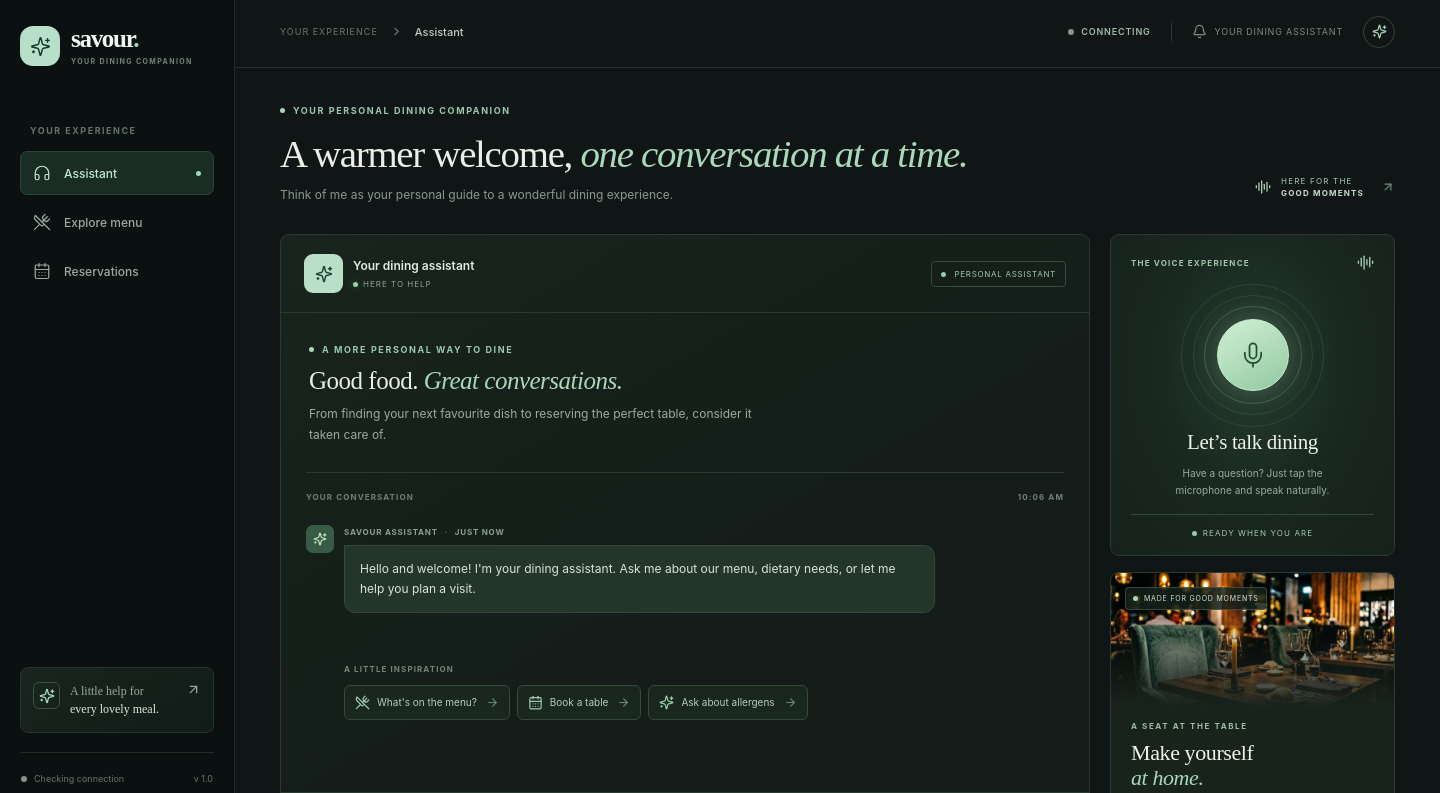
Test case: restaurant experience › shows reservation confirmation only after the API succeeds
The image size is (1440, 793).
Click the button "Reservations" at (117, 271), box x1=20 y1=249 x2=214 y2=293
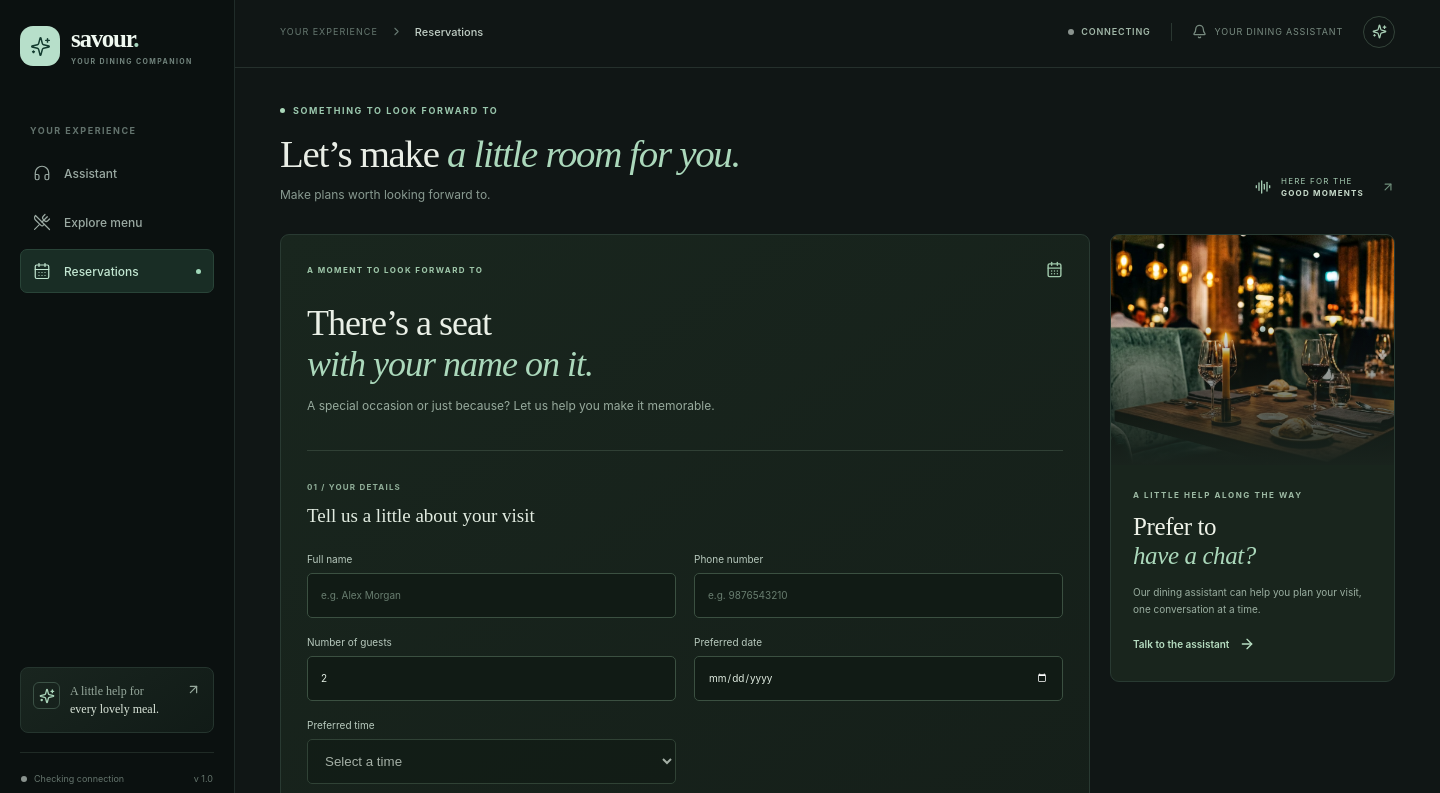
Type "Alex" into the field labelled "Full name" at (492, 595), box x1=307 y1=573 x2=676 y2=618
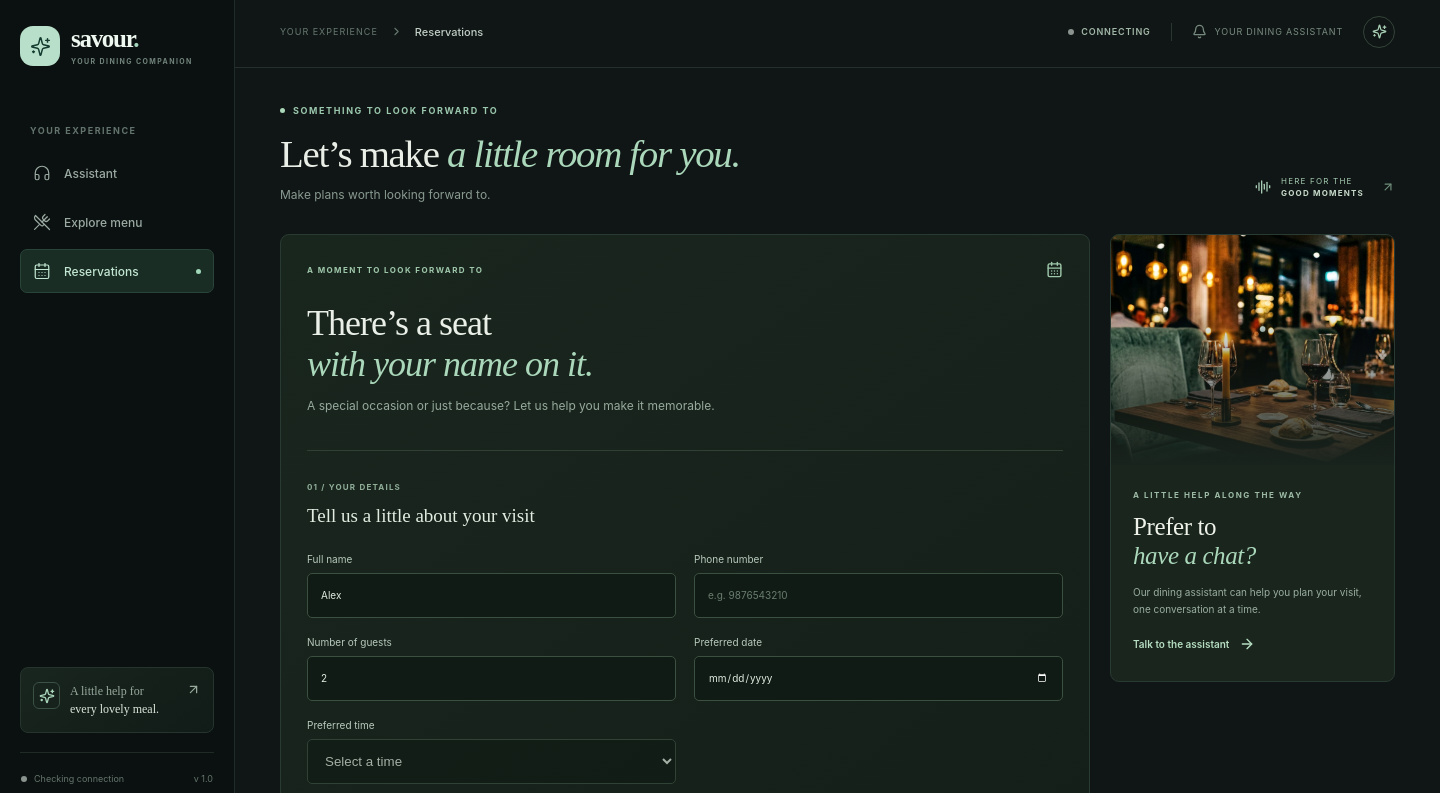
Type "9870001234" into the field labelled "Phone number" at (878, 595), box x1=694 y1=573 x2=1063 y2=618
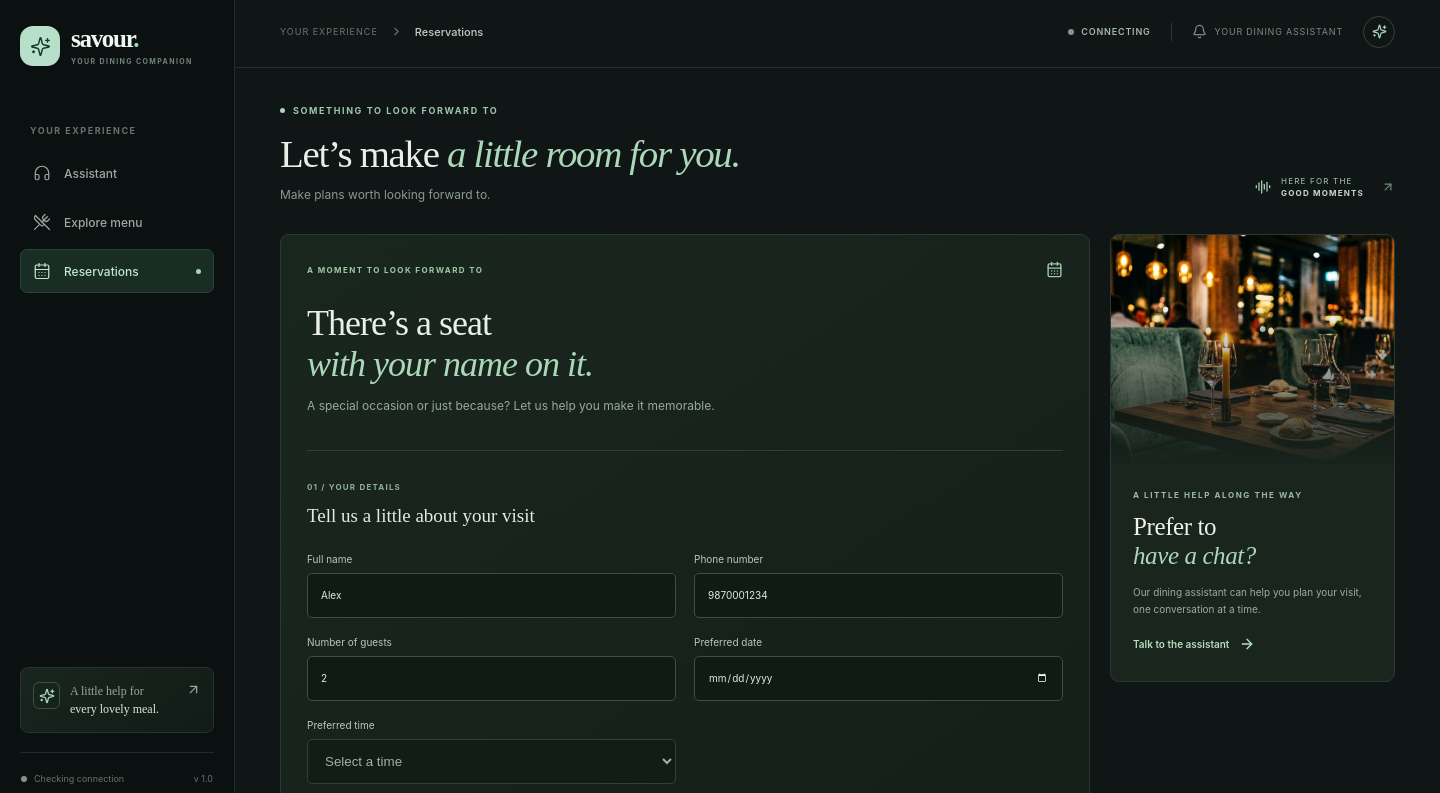
Type "2030-05-12" into the date field labelled "Preferred date" at (878, 678), box x1=694 y1=656 x2=1063 y2=701
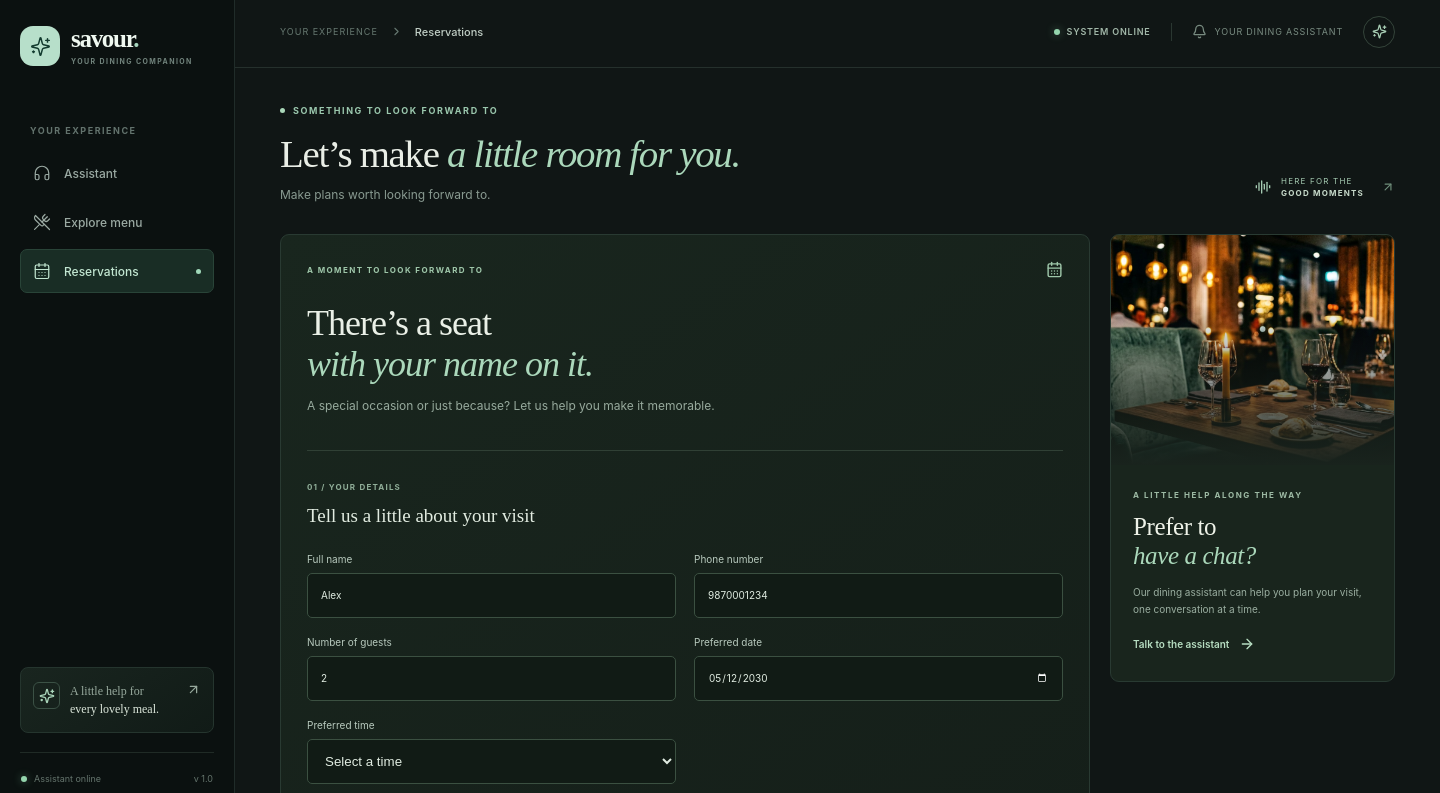
Select "18:00" in the dropdown labelled "Preferred time" at (492, 761), box x1=307 y1=739 x2=676 y2=784
(page scrolled)
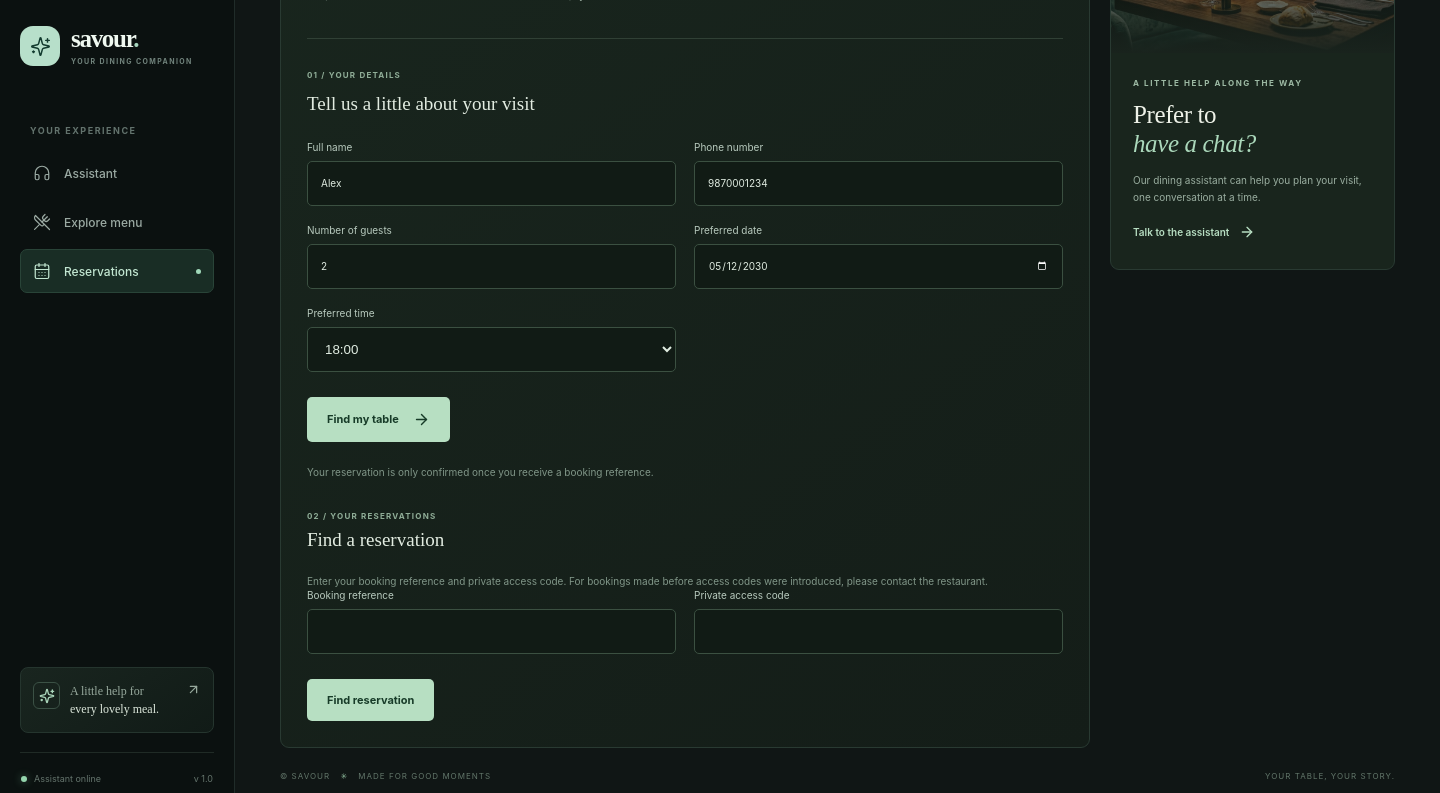
Click the button "Find my table" at (378, 419), box x1=307 y1=397 x2=450 y2=442
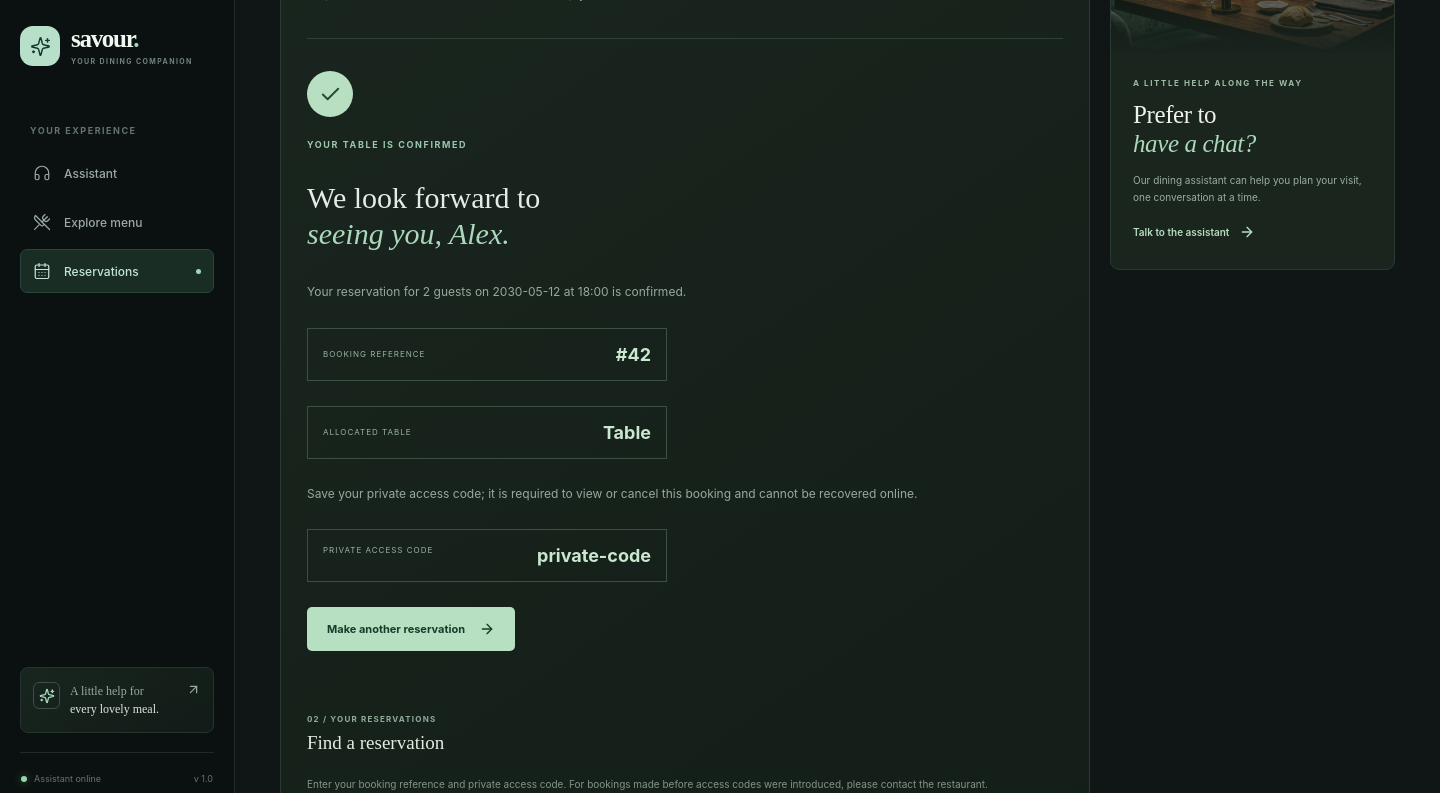
Expected: the text "#42" is shown, x1=616 y1=344 x2=651 y2=365
